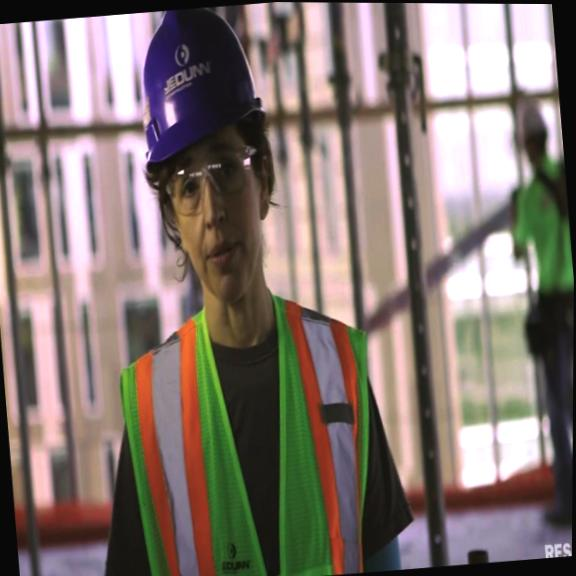safety_vest: (112, 281, 393, 576)
